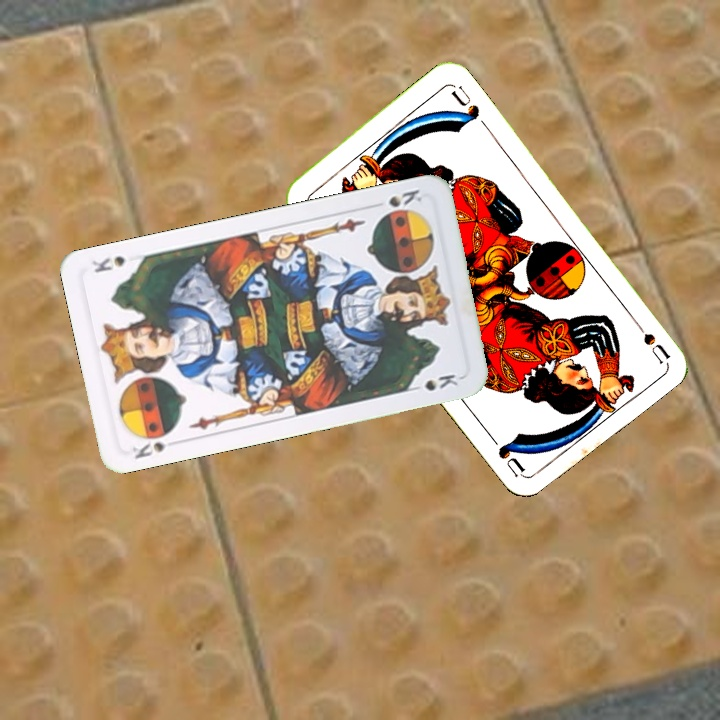SK: (128, 426, 183, 462), (384, 185, 425, 210)
SU: (627, 312, 672, 365)
